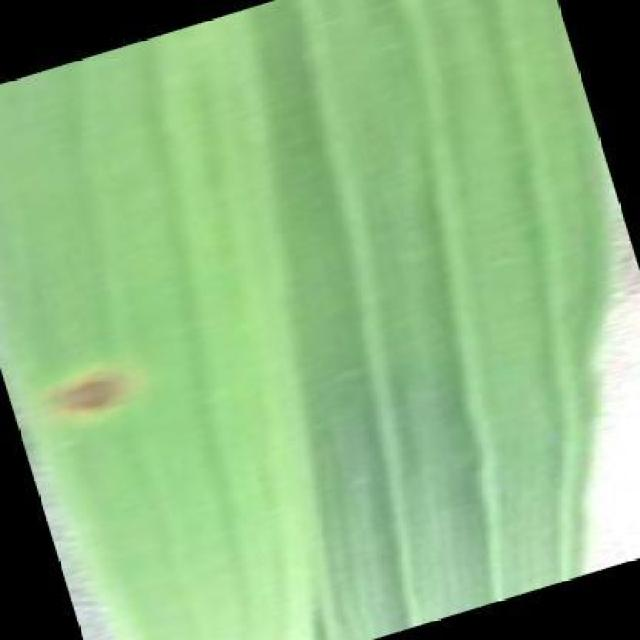Leaf_Blast: (18, 328, 164, 461)
